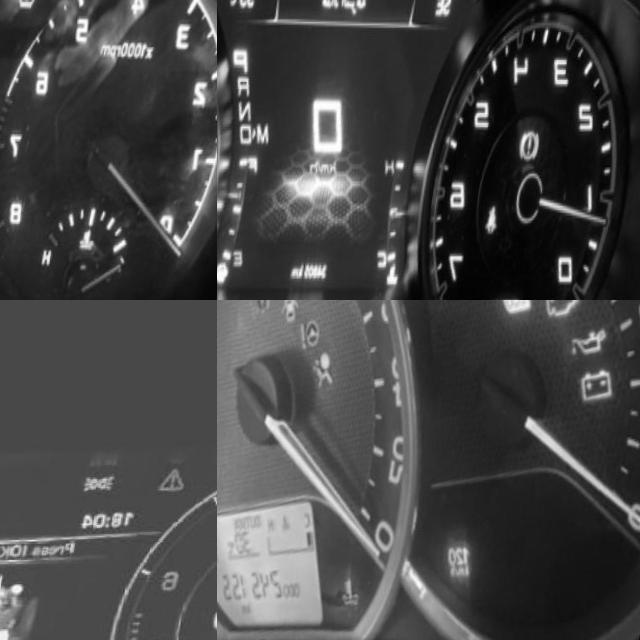Doors: (279, 300, 312, 328)
Engine cooling system: (346, 569, 381, 616)
Seat Belt: (492, 206, 510, 238)
